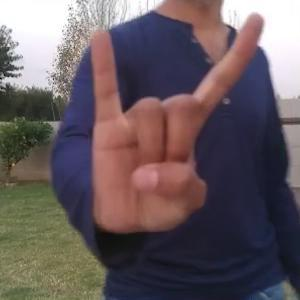takeoff-hand: (84, 4, 265, 239)
